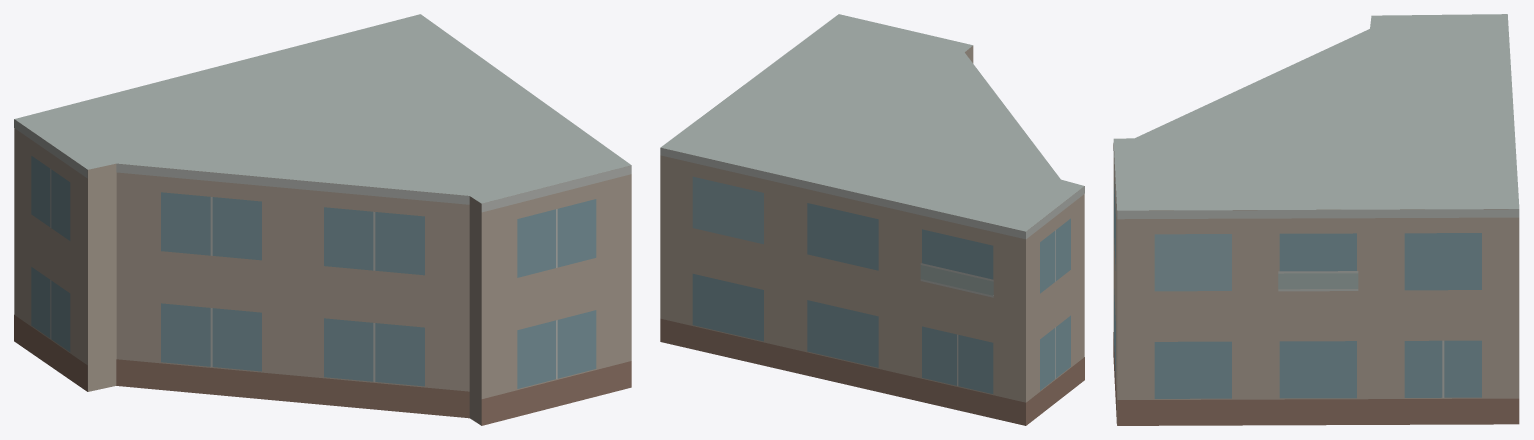
The model's file is survey-upis-32804757.glb.
3 renders of one model, left to right at view 1: azimuth 30°, elevation 25°; view 2: azimuth 150°, elevation 25°; view 3: azimuth 270°, elevation 25°, orthographic. The views are drawn at different scales.
Visible parts, largest first — view 1: survey-upis-32804757.tmp; view 2: survey-upis-32804757.tmp; view 3: survey-upis-32804757.tmp.
Part boxes in pixels (<box>): survey-upis-32804757.tmp: <box>14,14,631,425</box>; survey-upis-32804757.tmp: <box>660,14,1084,425</box>; survey-upis-32804757.tmp: <box>1113,14,1519,425</box>.
Bounding box in the file's own units: 11.95 × 6.1 × 10.44.
